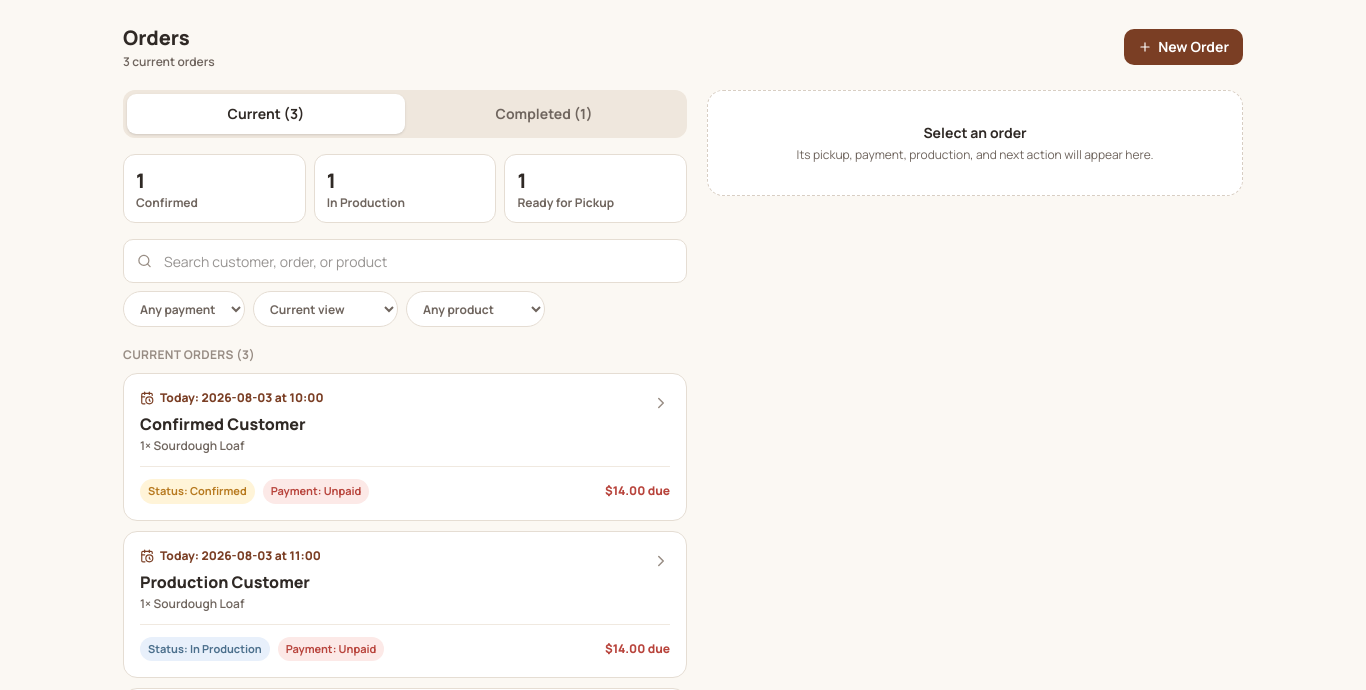
Scenario: OrdersScreen workflow queue › keeps draft and cancelled records accessible through the secondary status filter
Step 1. Select "Draft orders" in the dropdown named "Record status" → [326, 309], box [253, 291, 398, 327]
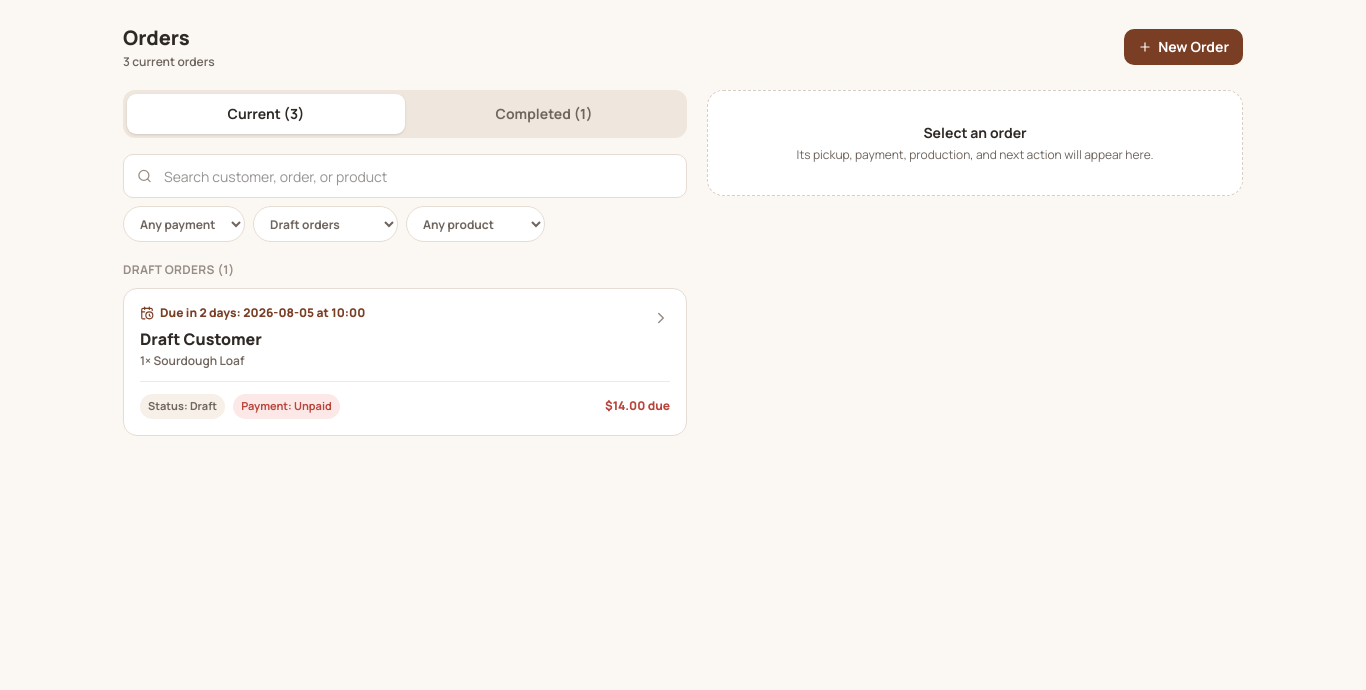
Now the button with aria-label "Open order order-draft" is shown, box [124, 289, 686, 434]
Step 2. Select "Cancelled orders" in the dropdown named "Record status" → [326, 224], box [253, 206, 398, 242]
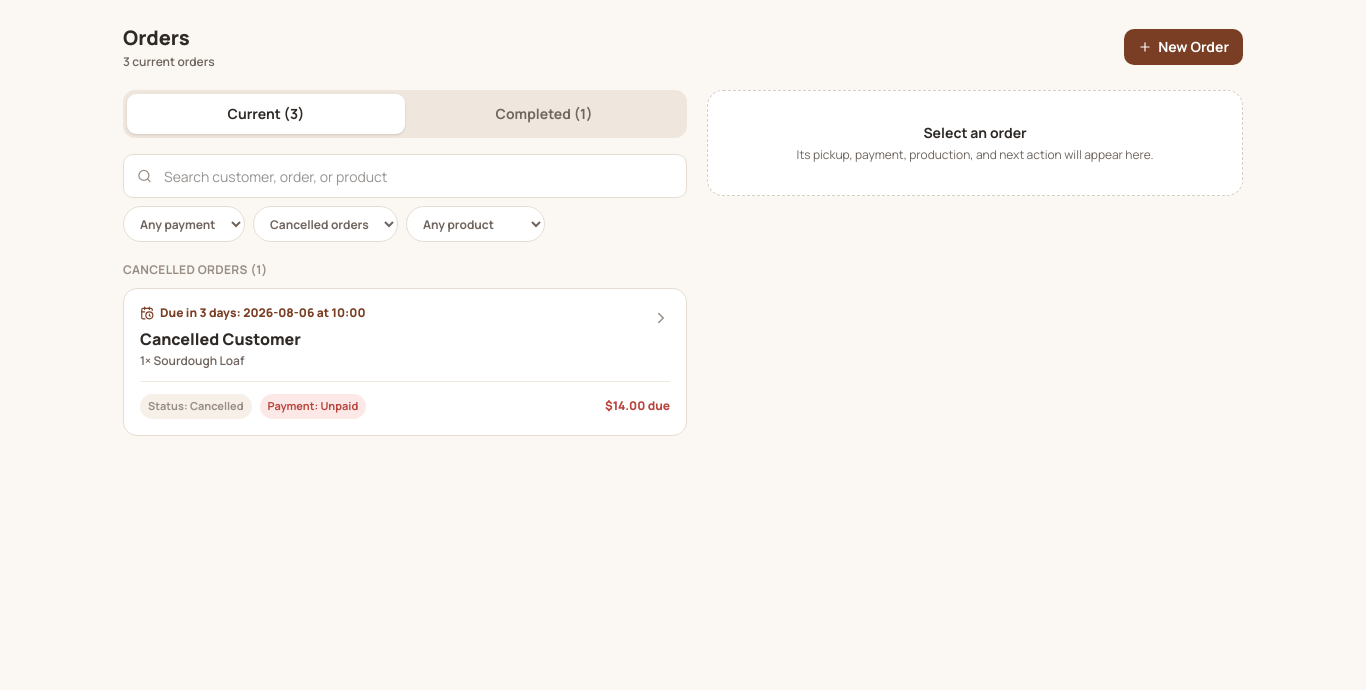
Now the button with aria-label "Open order order-cancelled" is shown, box [124, 289, 686, 434]
